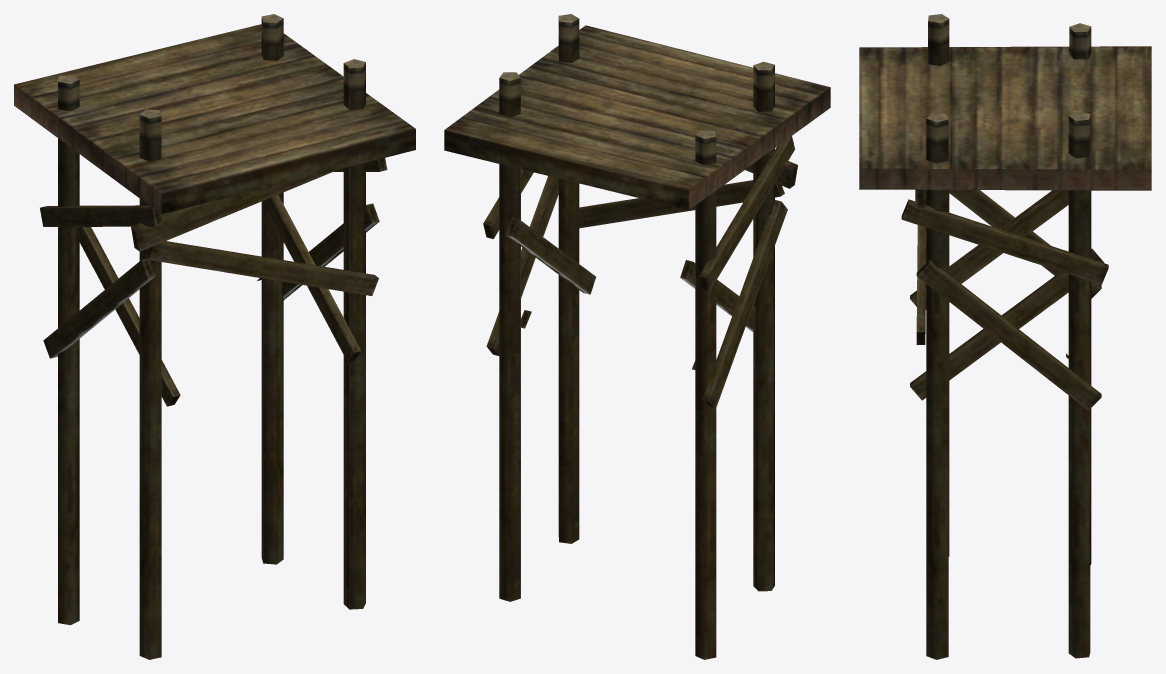
Rendered from nsm-general_obj_01_4.fbx.
The picture shows the model from 3 angles, left to right: view 1: azimuth 30°, elevation 25°; view 2: azimuth 150°, elevation 25°; view 3: azimuth 270°, elevation 25°; orthographic projection. The views are drawn at different scales.
Parts seen in each view (by area): view 1: Mesh03; view 2: Mesh03; view 3: Mesh03.
Part boxes in pixels (bbox=[...]): Mesh03: bbox=[14, 14, 415, 659]; Mesh03: bbox=[444, 14, 830, 659]; Mesh03: bbox=[859, 14, 1151, 659].
Size of the model in its own units: 5 by 10.44 by 5.
